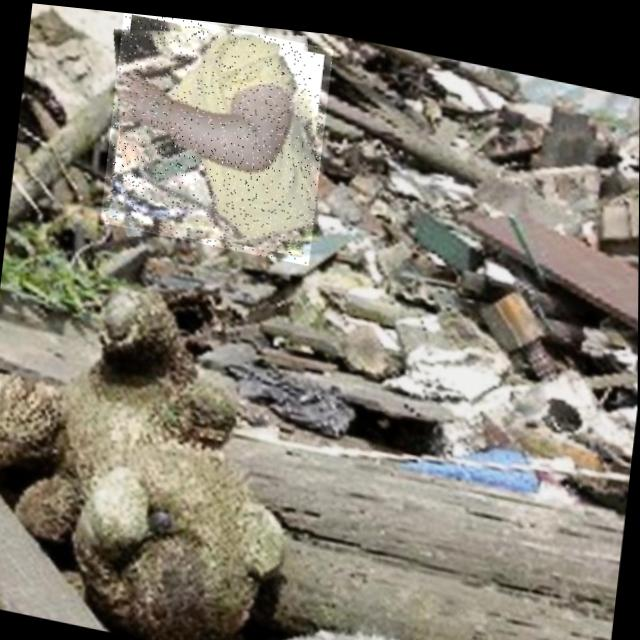Person in Rubble: (100, 8, 333, 260)
